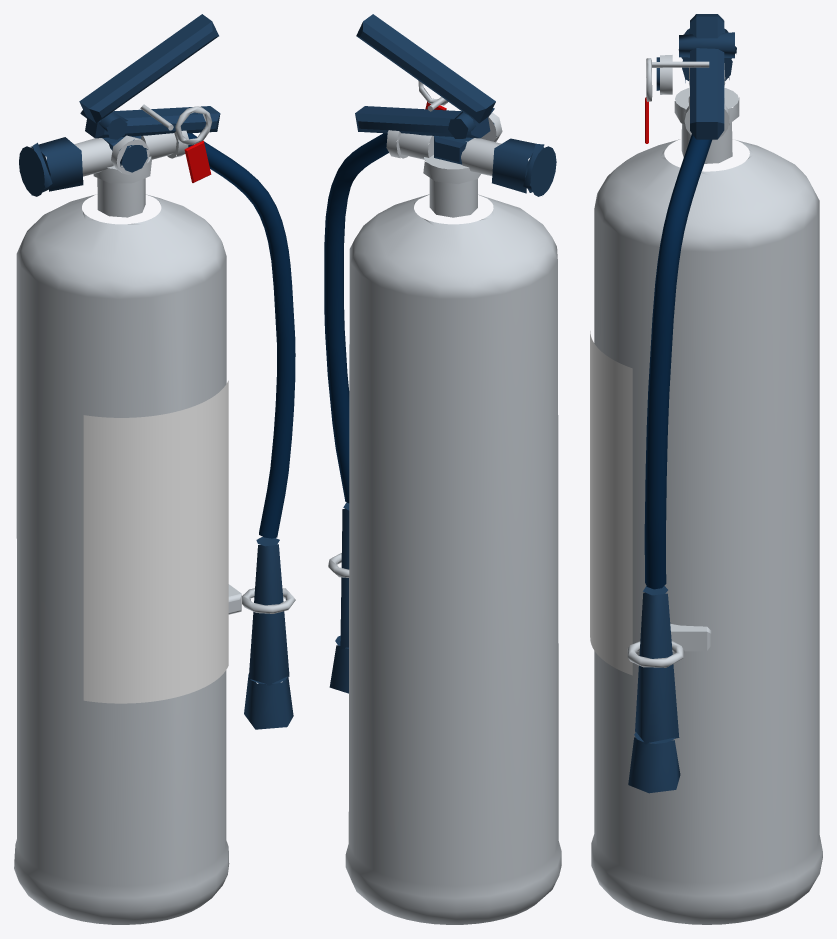
File: extincteur.glb
The picture shows the model from 3 angles, left to right: view 1: azimuth 30°, elevation 25°; view 2: azimuth 150°, elevation 25°; view 3: azimuth 270°, elevation 25°; orthographic projection. The views are drawn at different scales.
Visible parts, largest first — view 1: body__blanc, body__blanc2, body__bleu_nuit, hose__bleu_nuit2, body__rouge; view 2: body__blanc, body__bleu_nuit, hose__bleu_nuit2; view 3: body__blanc, body__blanc2, body__bleu_nuit, hose__bleu_nuit2.
Part boxes in pixels (x1,y1,x2,y2): body__blanc: [14, 104, 295, 924]; body__blanc2: [83, 380, 228, 703]; body__bleu_nuit: [19, 14, 293, 729]; hose__bleu_nuit2: [178, 133, 295, 538]; body__rouge: [184, 140, 211, 182]; body__blanc: [328, 80, 561, 924]; body__bleu_nuit: [329, 14, 556, 693]; hose__bleu_nuit2: [324, 133, 388, 503]; body__blanc: [591, 55, 822, 924]; body__blanc2: [590, 331, 632, 675]; body__bleu_nuit: [628, 14, 736, 793]; hose__bleu_nuit2: [644, 134, 711, 589].
Bounding box in the file's own units: 0.1868 × 0.62 × 0.1436.
